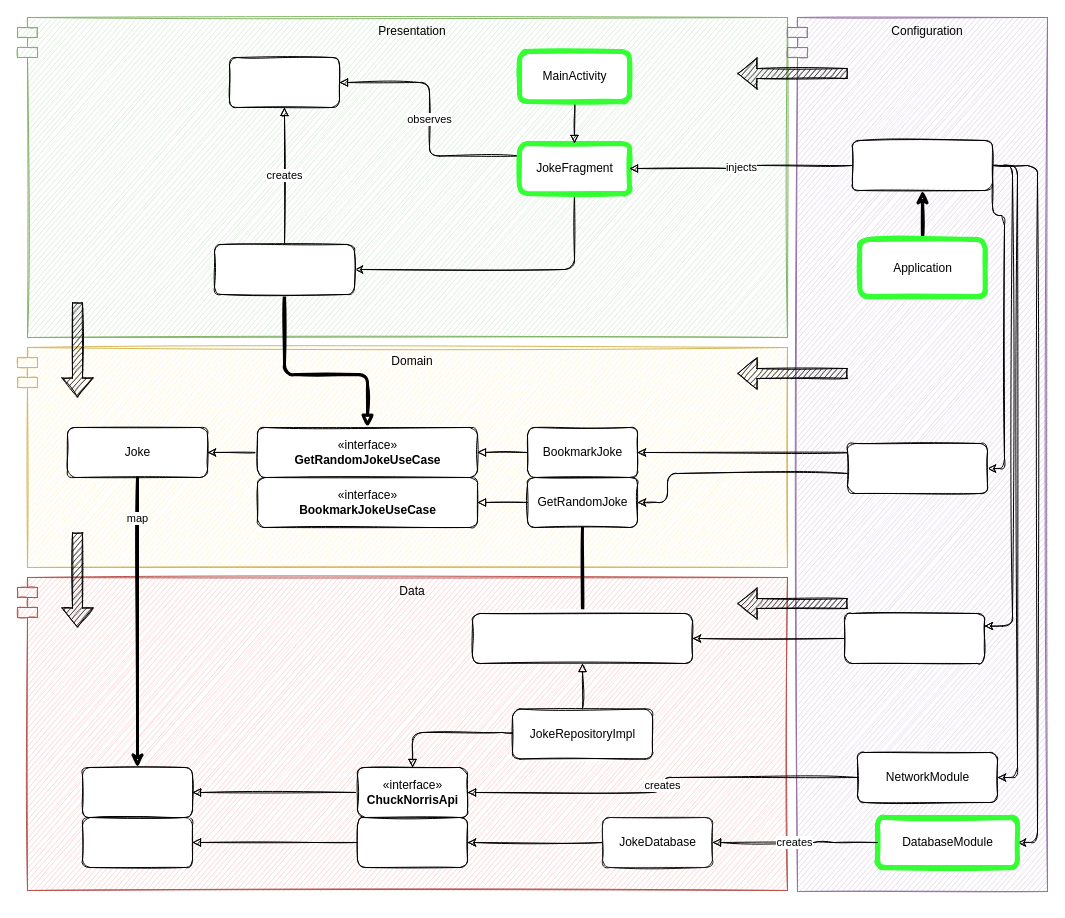
Some shapes in this 1065 by 918 pixel diagram are drawn without their labels. The centre of each missing label's shape, as x and y in pixels:
"JokeDBE" belongs at pixel 137 842.
"JokeDTO" belongs at pixel 137 792.
"JokeViewModel" belongs at pixel 284 82.
"JokeViewModelFactory" belongs at pixel 284 269.
"RepositoryModule" belongs at pixel 914 638.
"UseCaseModule" belongs at pixel 917 468.
"«interface» ApplicationComponent" belongs at pixel 922 165.
"«interface» JokeDao" belongs at pixel 412 842.
"«interface» JokeRepository" belongs at pixel 582 638.
